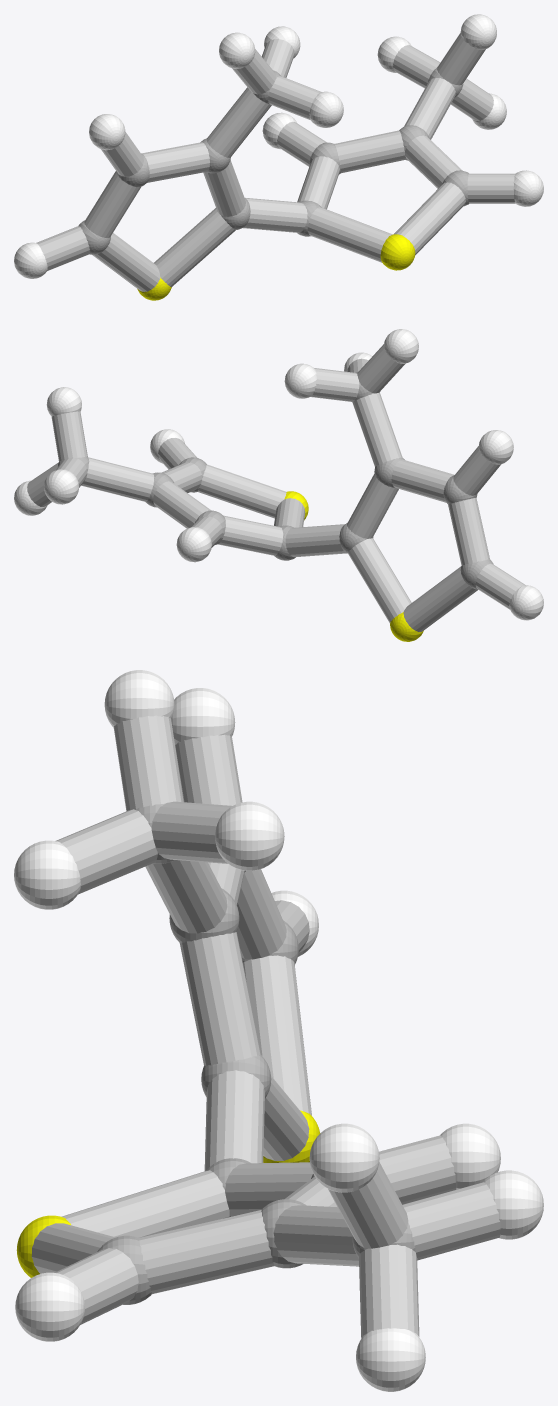
Rendered from Methylthiophene_Phi_30_Theta_90_Methylthiophene.glb.
3 views of the same model, one above another, from view 1: azimuth 30°, elevation 25°; view 2: azimuth 150°, elevation 25°; view 3: azimuth 270°, elevation 25° (orthographic). The views are drawn at different scales.
Visible parts, largest first — view 1: grp7965, grp3621, grp1, grp7241; view 2: grp7965, grp3621, grp1, grp7241; view 3: grp7965, grp3621, grp1, grp7241.
Boxes of the visible parts, x1=… form: grp7965: x1=36, y1=33, x2=515, y2=291; grp3621: x1=14, y1=14, x2=543, y2=278; grp1: x1=78, y1=67, x2=468, y2=254; grp7241: x1=137, y1=234, x2=415, y2=300; grp7965: x1=27, y1=344, x2=525, y2=631; grp3621: x1=14, y1=329, x2=543, y2=620; grp1: x1=58, y1=372, x2=493, y2=589; grp7241: x1=284, y1=491, x2=423, y2=641; grp7965: x1=31, y1=715, x2=500, y2=1338; grp3621: x1=14, y1=670, x2=543, y2=1391; grp1: x1=97, y1=803, x2=415, y2=1304; grp7241: x1=16, y1=1110, x2=320, y2=1277.
Size of the model in its own units: 9.77 by 5.1 by 4.55.
